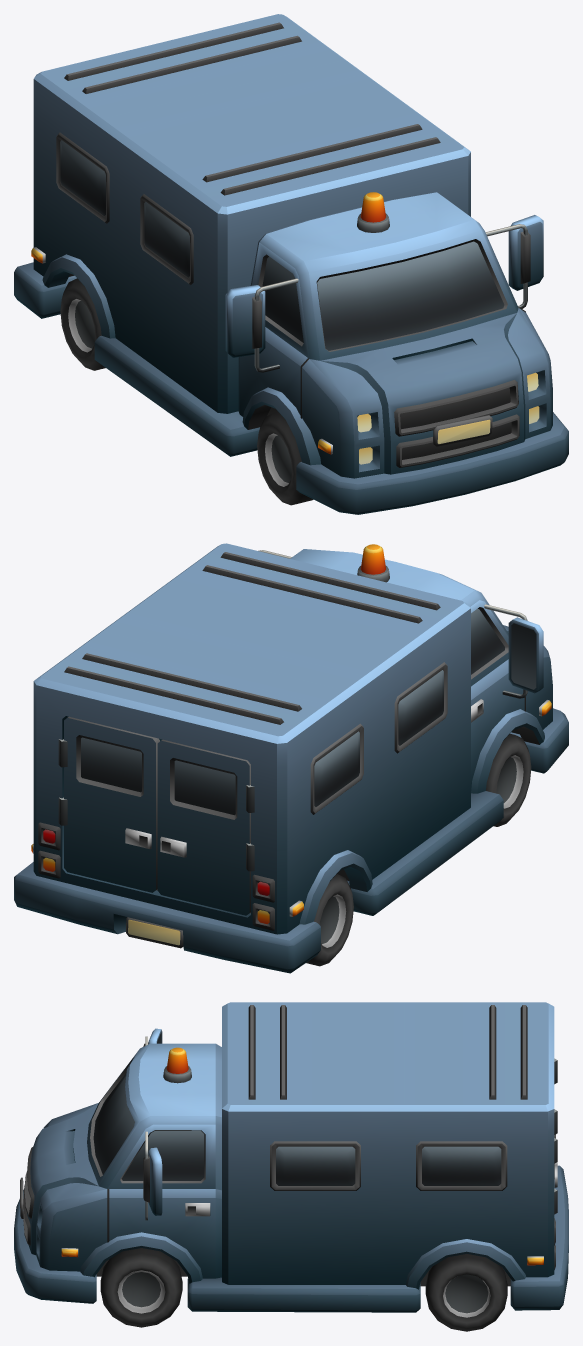
The model's file is Car_9B.fbx.
3 views of the same model, one above another, from view 1: azimuth 30°, elevation 25°; view 2: azimuth 150°, elevation 25°; view 3: azimuth 270°, elevation 25° (orthographic). The views are drawn at different scales.
Visible parts, largest first — view 1: Car_9B, Wheel_9B_F.R, Wheel_9B_R.R; view 2: Car_9B, Door_9B_R.L, Door_9B_R.R, Wheel_9B_F.R, Wheel_9B_R.R; view 3: Car_9B, Wheel_9B_F.L, Wheel_9B_R.L.
Part boxes in pixels (bbox=[...]): Car_9B: bbox=[14, 14, 568, 514]; Wheel_9B_F.R: bbox=[257, 412, 313, 505]; Wheel_9B_R.R: bbox=[60, 278, 105, 370]; Car_9B: bbox=[14, 543, 568, 973]; Door_9B_R.L: bbox=[58, 716, 159, 892]; Door_9B_R.R: bbox=[157, 739, 254, 915]; Wheel_9B_F.R: bbox=[486, 733, 531, 826]; Wheel_9B_R.R: bbox=[306, 874, 353, 966]; Car_9B: bbox=[14, 1002, 568, 1312]; Wheel_9B_F.L: bbox=[100, 1248, 182, 1327]; Wheel_9B_R.L: bbox=[425, 1254, 507, 1331].
Bounding box in the file's own units: 309 × 248 × 541.
